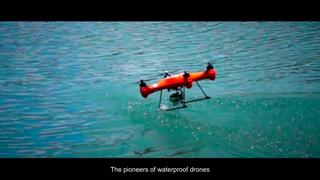UAV: (140, 63, 216, 112)
